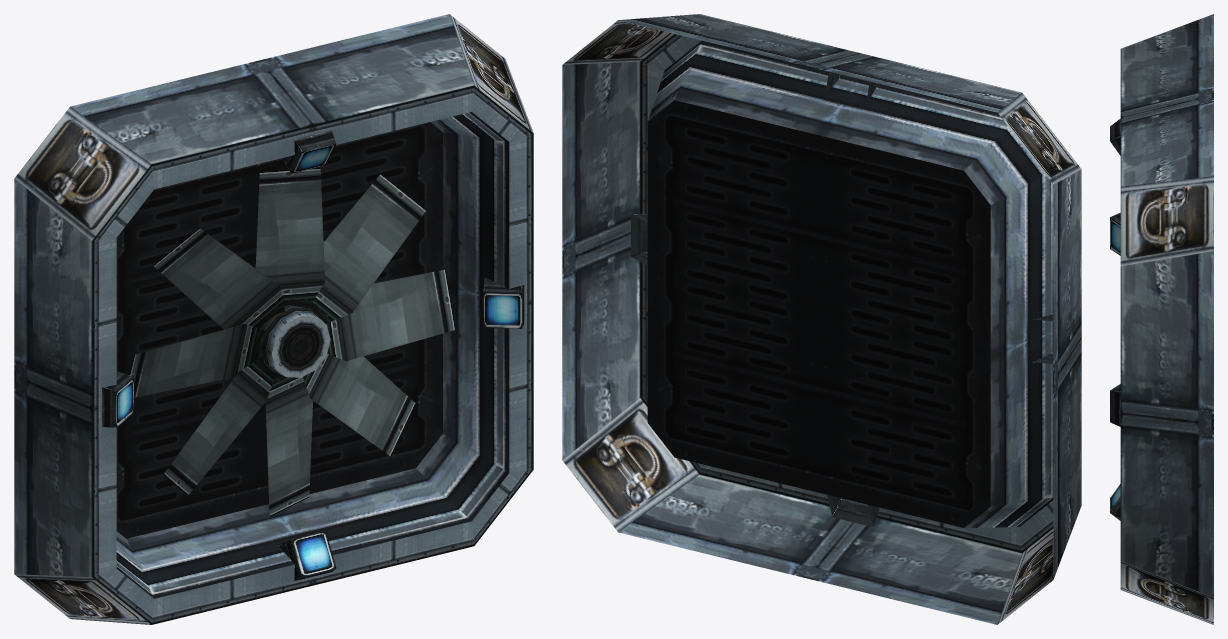
Rendered from Battery_wall_fan.FBX.
3 renders of one model, left to right at view 1: azimuth 30°, elevation 25°; view 2: azimuth 150°, elevation 25°; view 3: azimuth 270°, elevation 25°, orthographic. The views are drawn at different scales.
Visible parts, largest first — view 1: Battery_wall_fan_base, Battery_wall_fan_blade; view 2: Battery_wall_fan_base; view 3: Battery_wall_fan_base.
Boxes of the visible parts, x1,y1,x2,y2 form: Battery_wall_fan_base: (14,14,533,624); Battery_wall_fan_blade: (129,167,455,516); Battery_wall_fan_base: (562,14,1081,624); Battery_wall_fan_base: (1110,14,1213,624).
Size of the model in its own units: 311 by 310 by 64.95.
